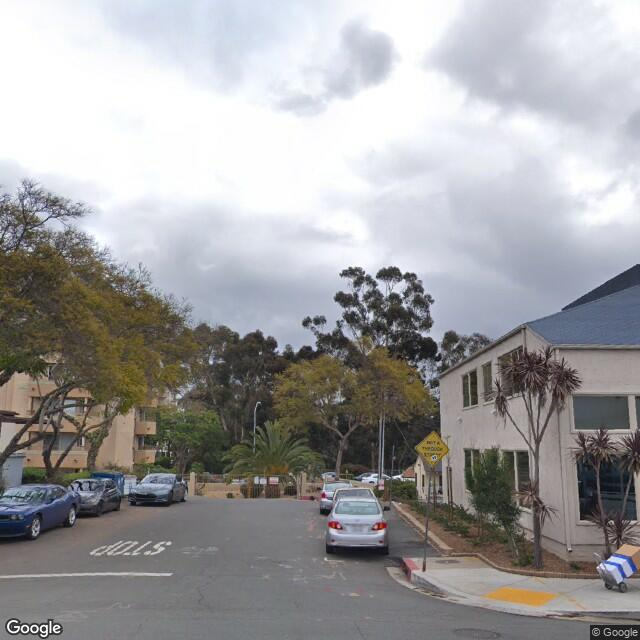window: (572, 388, 638, 434), (512, 445, 533, 510)
